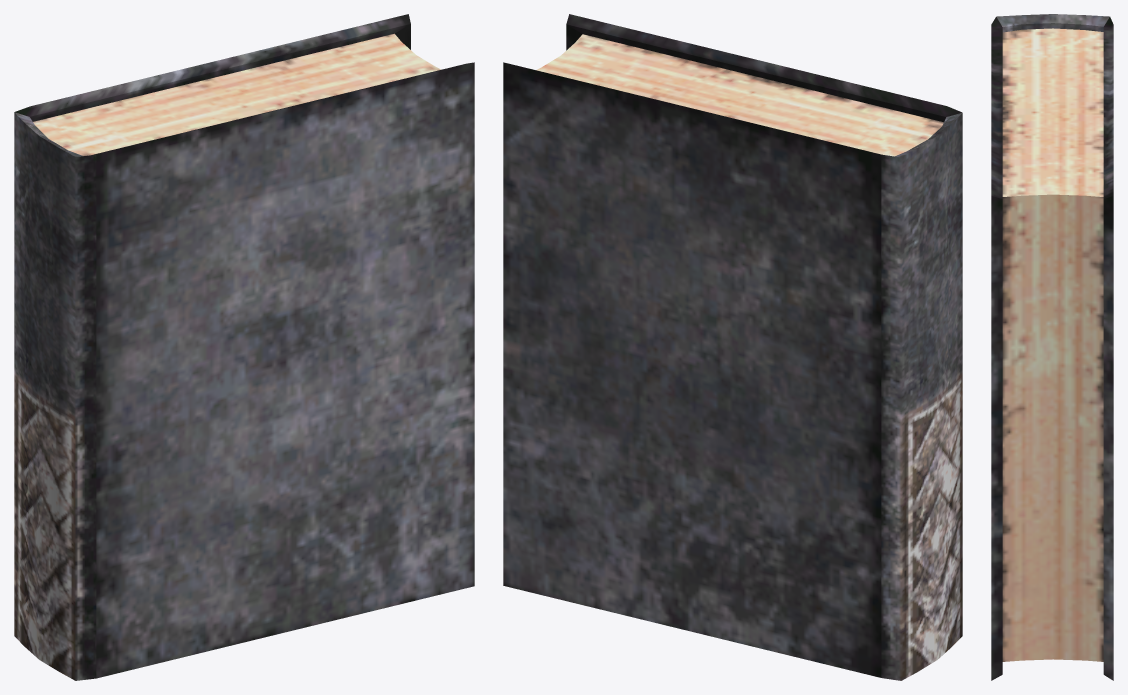
Rendered from book_moveable.dae.
3 views of the same model, side by side, from view 1: azimuth 30°, elevation 25°; view 2: azimuth 150°, elevation 25°; view 3: azimuth 270°, elevation 25° (orthographic). The views are drawn at different scales.
Visible parts, largest first — view 1: pCube1; view 2: pCube1; view 3: pCube1.
Part boxes in pixels (left/top/right/bottom): pCube1: left=14, top=14, right=474, bottom=680; pCube1: left=503, top=14, right=962, bottom=680; pCube1: left=991, top=14, right=1113, bottom=680.
Size of the model in its own units: 0.2811 by 0.35 by 0.08.
